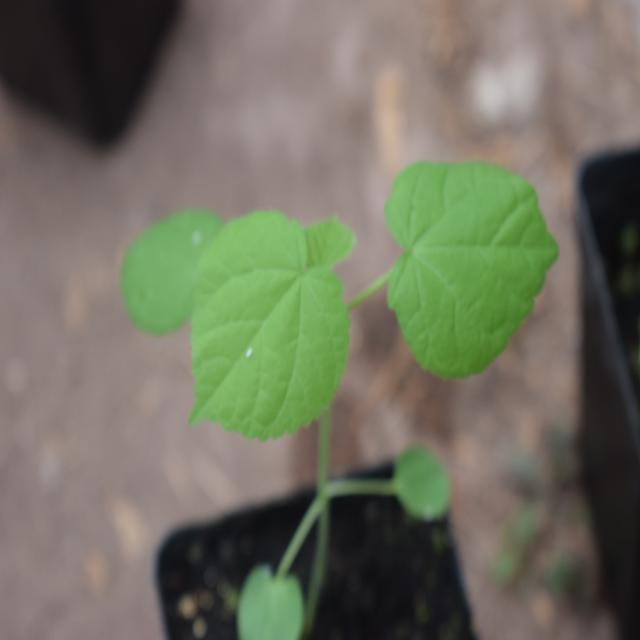abutilon theophrasti: (117, 150, 584, 491)
